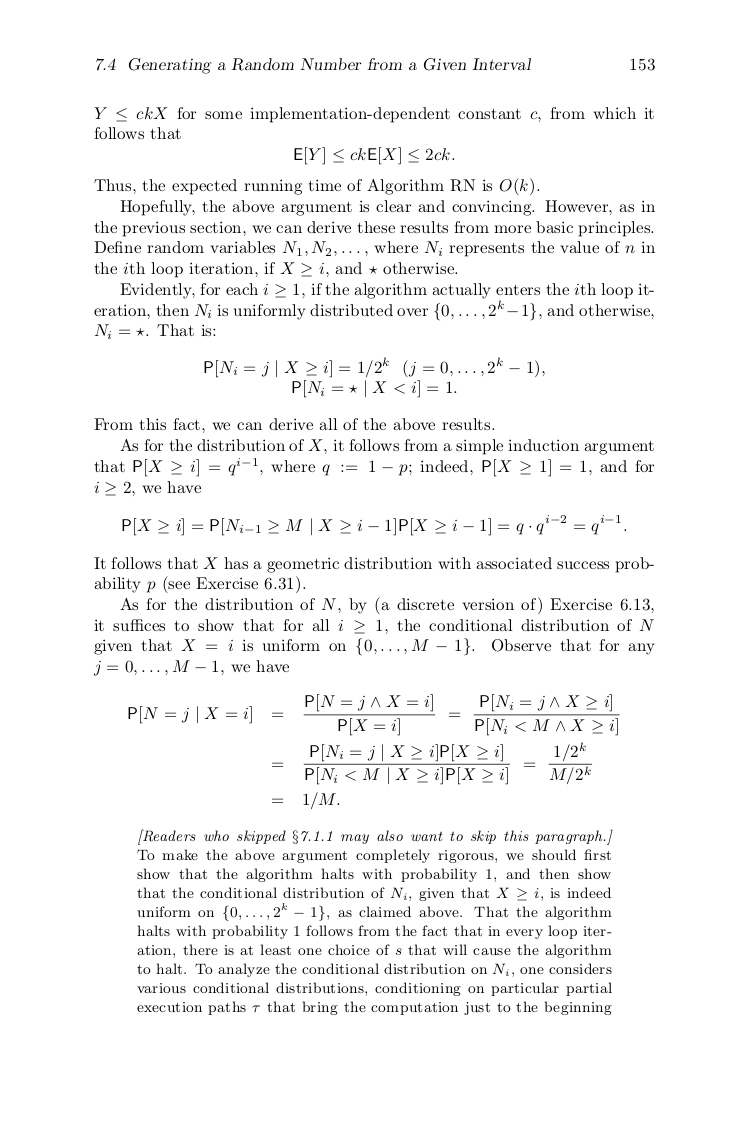formula: (128, 692, 619, 736), (272, 741, 591, 785), (122, 514, 626, 536), (204, 357, 544, 382), (294, 145, 454, 165), (292, 381, 456, 397), (272, 791, 339, 810)
